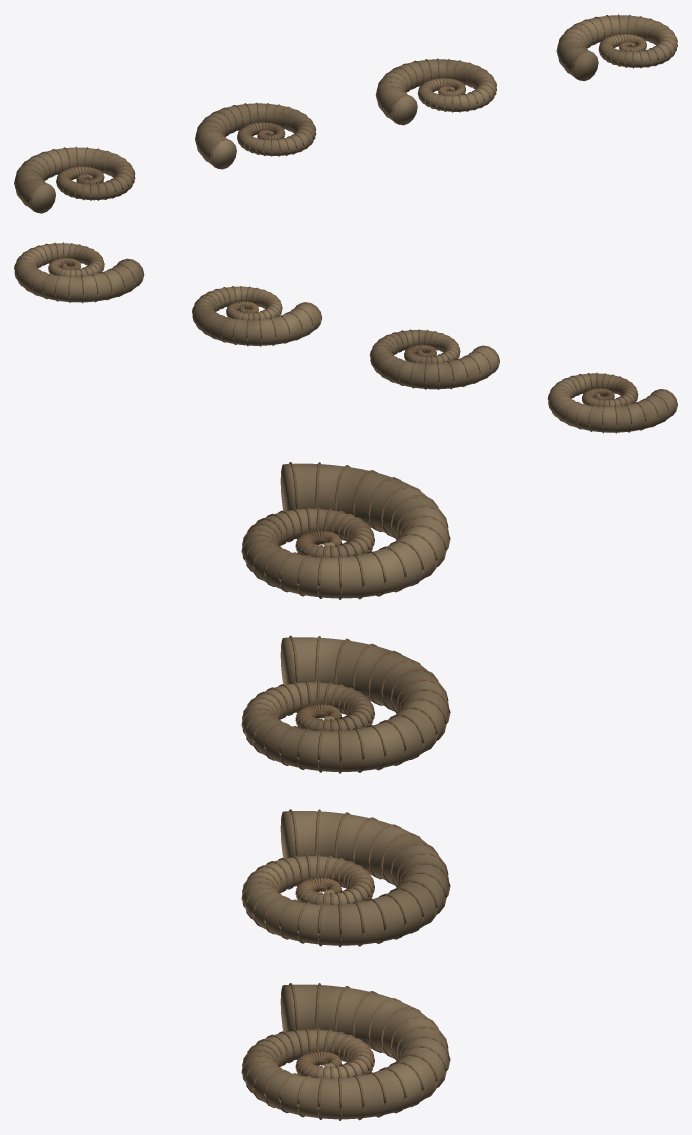
3 views of the same model, one above another, from view 1: azimuth 30°, elevation 25°; view 2: azimuth 150°, elevation 25°; view 3: azimuth 270°, elevation 25° (orthographic). The views are drawn at different scales.
Parts seen in each view (by area): view 1: D09_SPEC_Fossil ridge_export, D09_SPEC_Fossil umber_export; view 2: D09_SPEC_Fossil ridge_export, D09_SPEC_Fossil umber_export; view 3: D09_SPEC_Fossil ridge_export, D09_SPEC_Fossil umber_export.
Part boxes in pixels (x1,y1,x2,y2): D09_SPEC_Fossil ridge_export: [14, 15, 677, 213]; D09_SPEC_Fossil umber_export: [14, 14, 677, 212]; D09_SPEC_Fossil ridge_export: [14, 243, 677, 432]; D09_SPEC_Fossil umber_export: [14, 242, 677, 433]; D09_SPEC_Fossil ridge_export: [243, 463, 448, 1119]; D09_SPEC_Fossil umber_export: [241, 462, 450, 1120].
Bounding box in the file's own units: 3.44 × 0.1443 × 0.4837.
